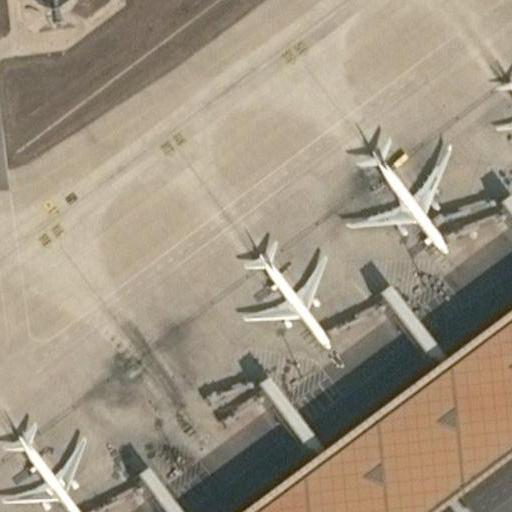Aircraft: (352, 130, 461, 264), (234, 234, 346, 342), (0, 415, 92, 512), (474, 66, 512, 151)
